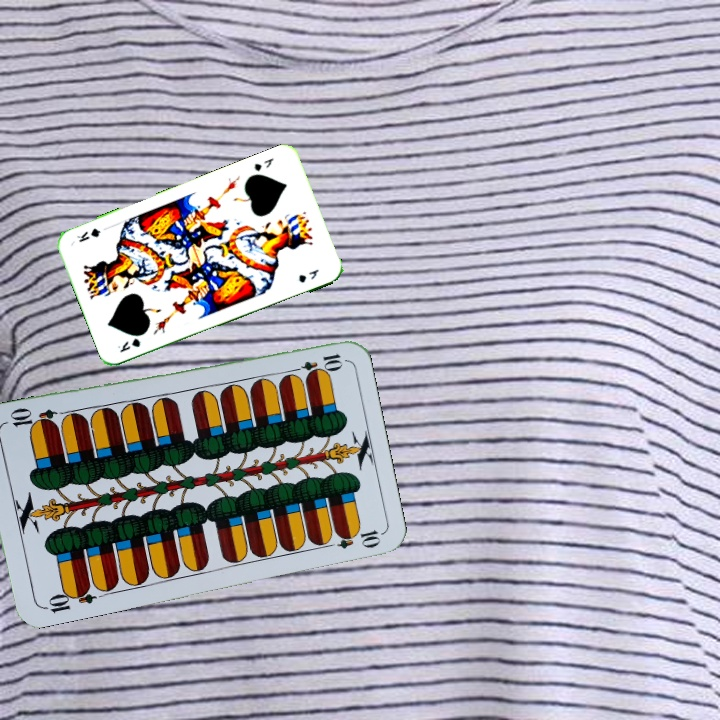E10: (39, 581, 98, 616), (286, 349, 345, 377)
GK: (113, 334, 143, 355), (250, 154, 276, 174)
